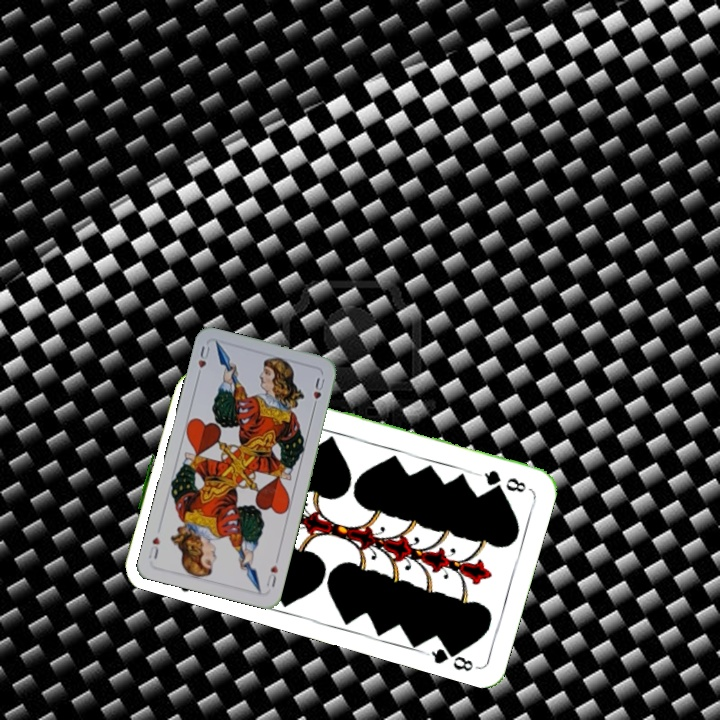G8: (474, 466, 529, 496)
HU: (193, 342, 213, 381), (262, 561, 280, 590)
